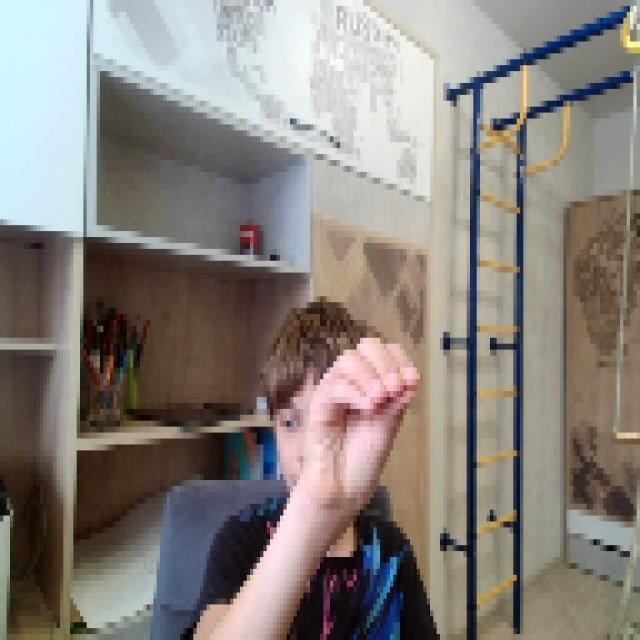left_click: (300, 326, 420, 510)
